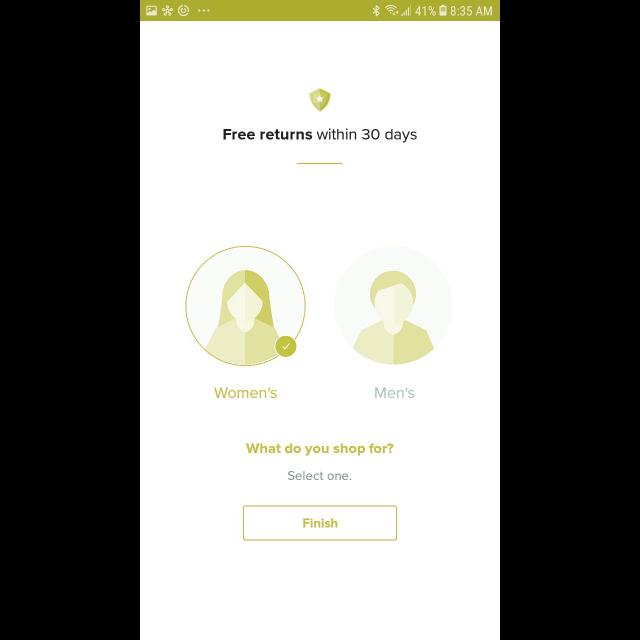image: (186, 246, 306, 366), (334, 246, 454, 364), (309, 88, 331, 112)
text: (223, 128, 417, 144), (246, 444, 394, 456), (215, 387, 278, 399), (288, 471, 352, 481), (375, 388, 415, 398)
textbutton: (243, 505, 397, 541)
uppertaskbar: (140, 1, 500, 22)
